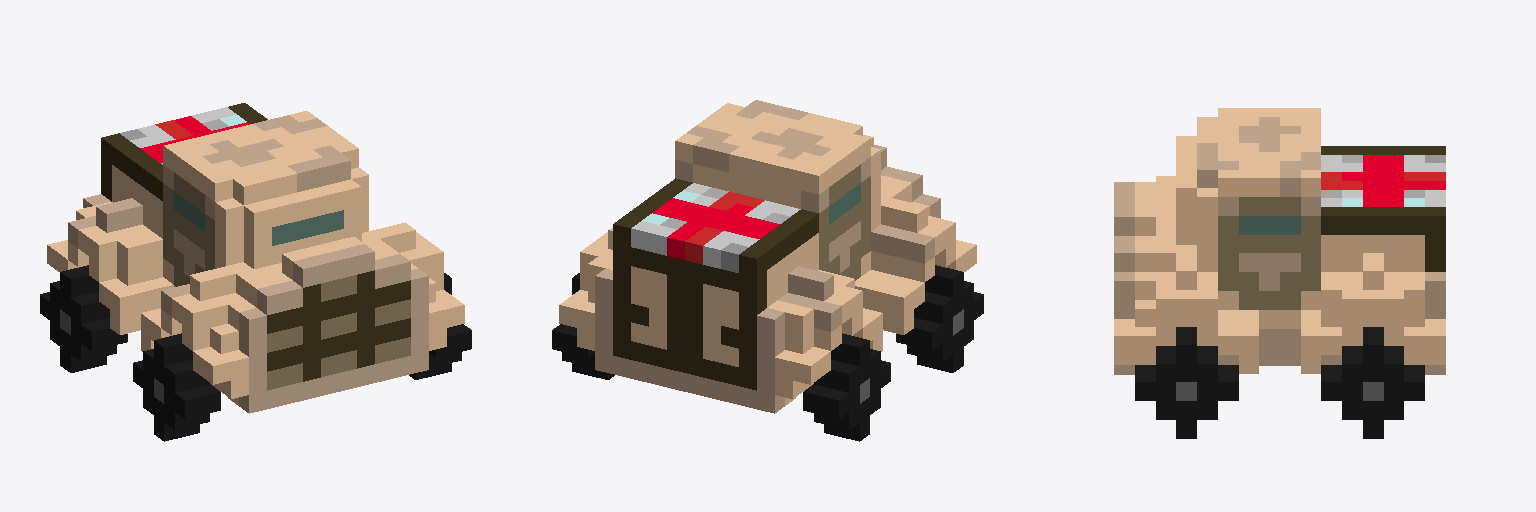
3 renders of one model, left to right at view 1: azimuth 30°, elevation 25°; view 2: azimuth 150°, elevation 25°; view 3: azimuth 270°, elevation 25°, orthographic.
Visible parts, largest first — view 1: Model; view 2: Model; view 3: Model.
Part boxes in pixels (left/top/right/bottom): Model: left=40, top=103, right=471, bottom=441; Model: left=552, top=100, right=983, bottom=441; Model: left=1114, top=108, right=1445, bottom=438.
Size of the model in its own units: 32 by 24 by 32.
1 materials, 1 textured.